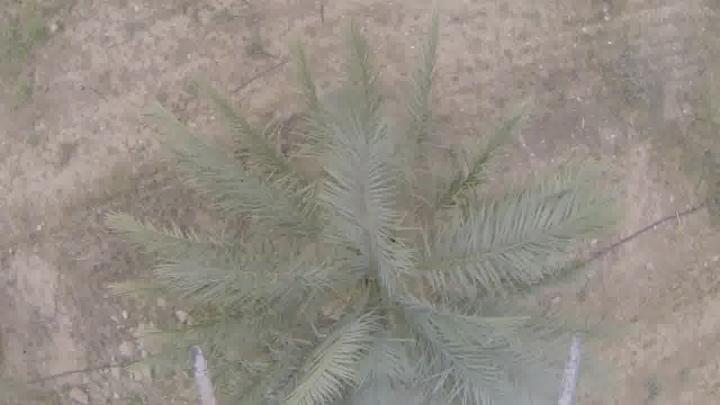Date-Palm-Crown: (243, 138, 514, 404)
